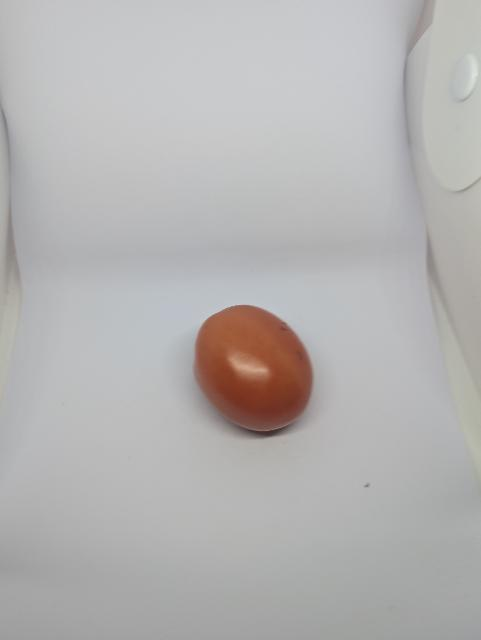red: (194, 302, 316, 436)
